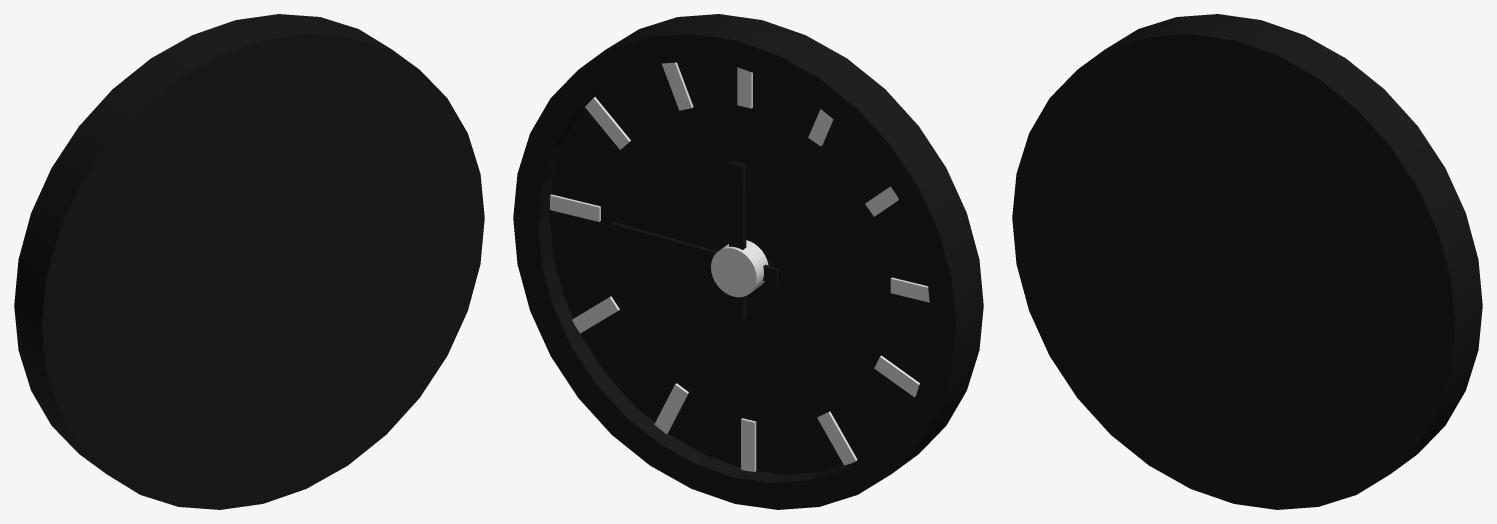
The model's file is ClockV2.fbx.
3 renders of one model, left to right at view 1: azimuth 30°, elevation 25°; view 2: azimuth 150°, elevation 25°; view 3: azimuth 330°, elevation 25°, orthographic.
Visible parts, largest first — view 1: Circle; view 2: Circle; view 3: Circle.
Part boxes in pixels (bbox=[...]): Circle: bbox=[14, 14, 484, 509]; Circle: bbox=[513, 14, 983, 509]; Circle: bbox=[1012, 14, 1482, 509].
Bounding box in the file's own units: 216 × 216 × 23.98.
